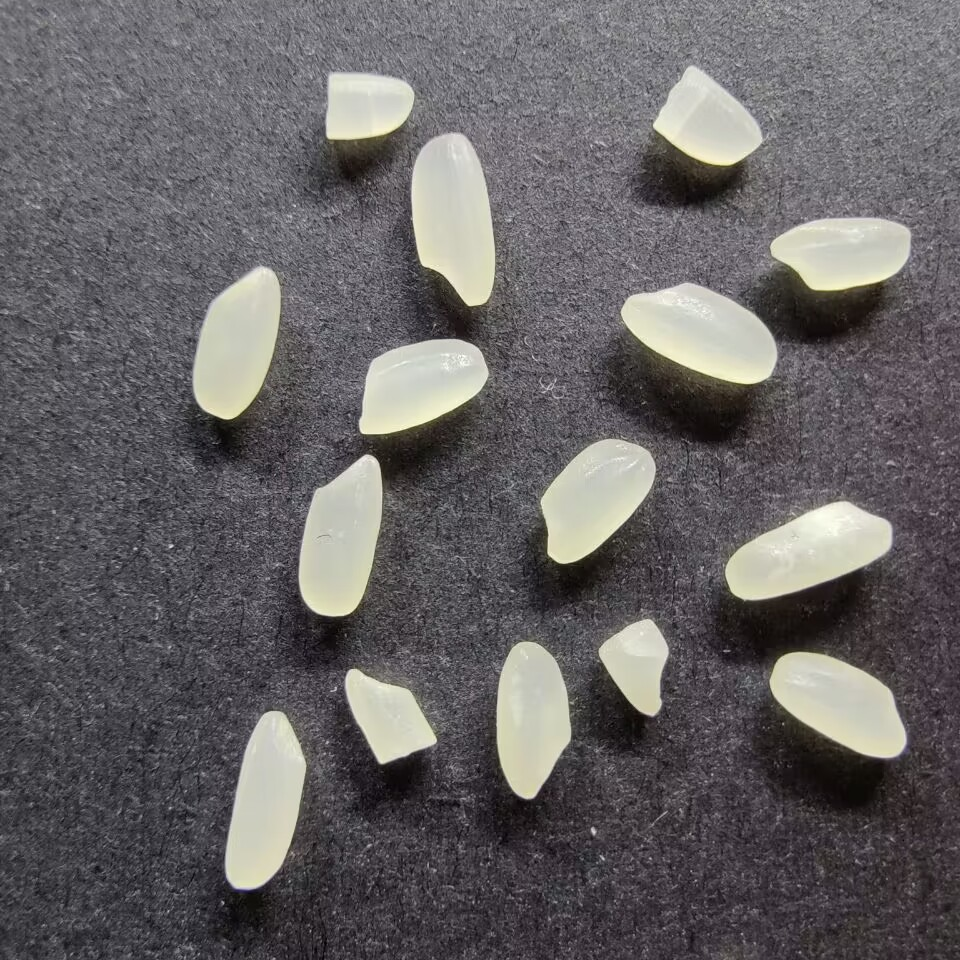broken: (650, 62, 766, 170), (342, 665, 439, 768), (596, 617, 672, 718), (323, 70, 416, 142)
rice: (724, 501, 895, 601), (619, 280, 779, 386), (222, 708, 308, 892), (769, 648, 908, 760), (409, 131, 497, 307), (537, 438, 657, 565), (295, 453, 384, 618), (189, 263, 281, 421), (356, 338, 489, 441), (494, 640, 572, 801), (767, 214, 912, 292)
